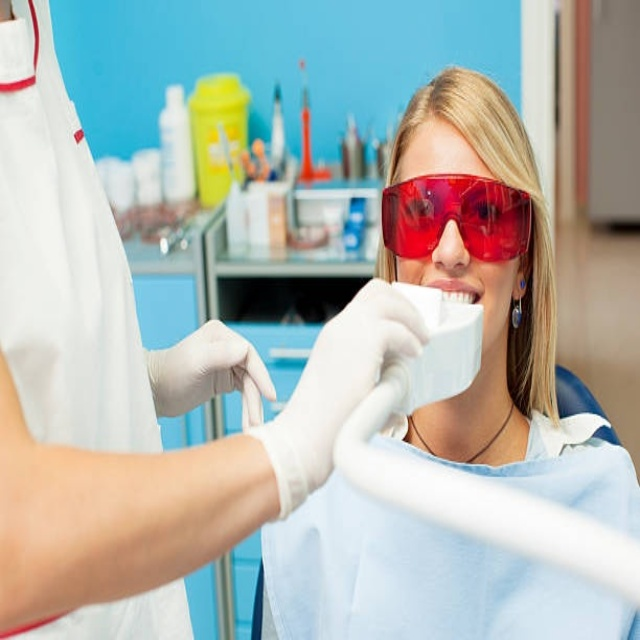Gafas: (380, 174, 531, 261)
Guantes: (245, 278, 437, 519), (145, 318, 276, 425)
Sin_mascara: (423, 278, 480, 307)
